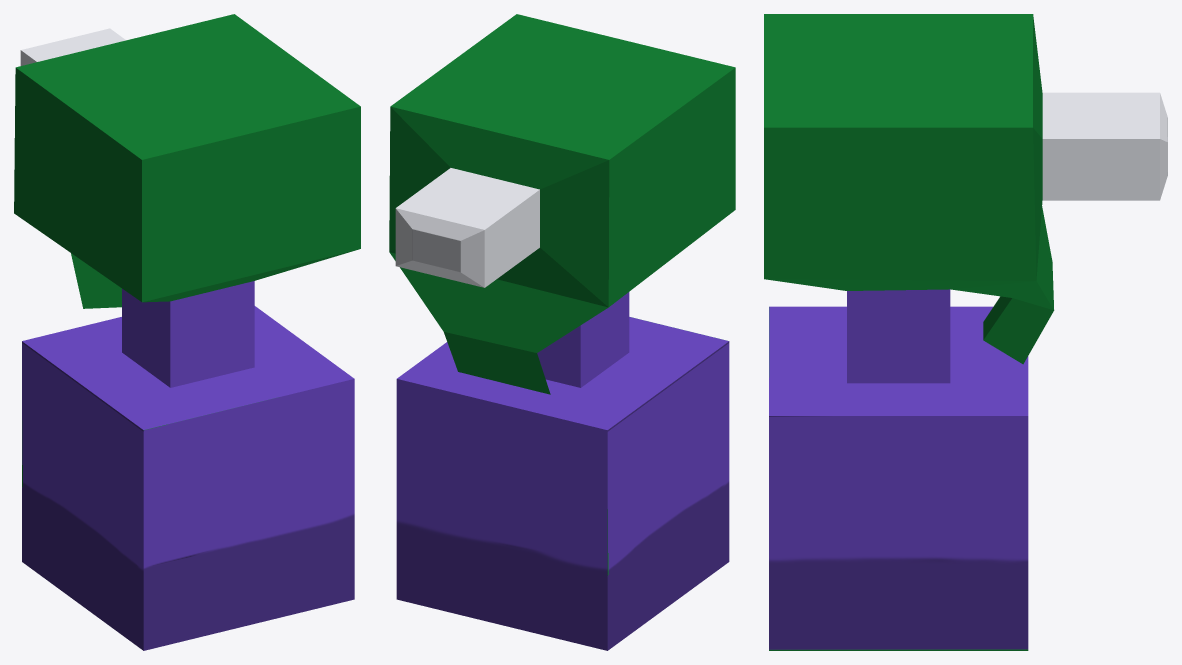
Rendered from Pesticide.glb.
3 views of the same model, side by side, from view 1: azimuth 30°, elevation 25°; view 2: azimuth 150°, elevation 25°; view 3: azimuth 270°, elevation 25° (orthographic). The views are drawn at different scales.
Parts seen in each view (by area): view 1: Pesticide; view 2: Pesticide; view 3: Pesticide.
Boxes of the visible parts, bbox=[...] form: Pesticide: bbox=[14, 14, 360, 650]; Pesticide: bbox=[389, 14, 735, 650]; Pesticide: bbox=[764, 14, 1167, 650].
Bounding box in the file's own units: 0.297 × 0.6386 × 0.4448.
Materials: 1 (1 with a texture image).
